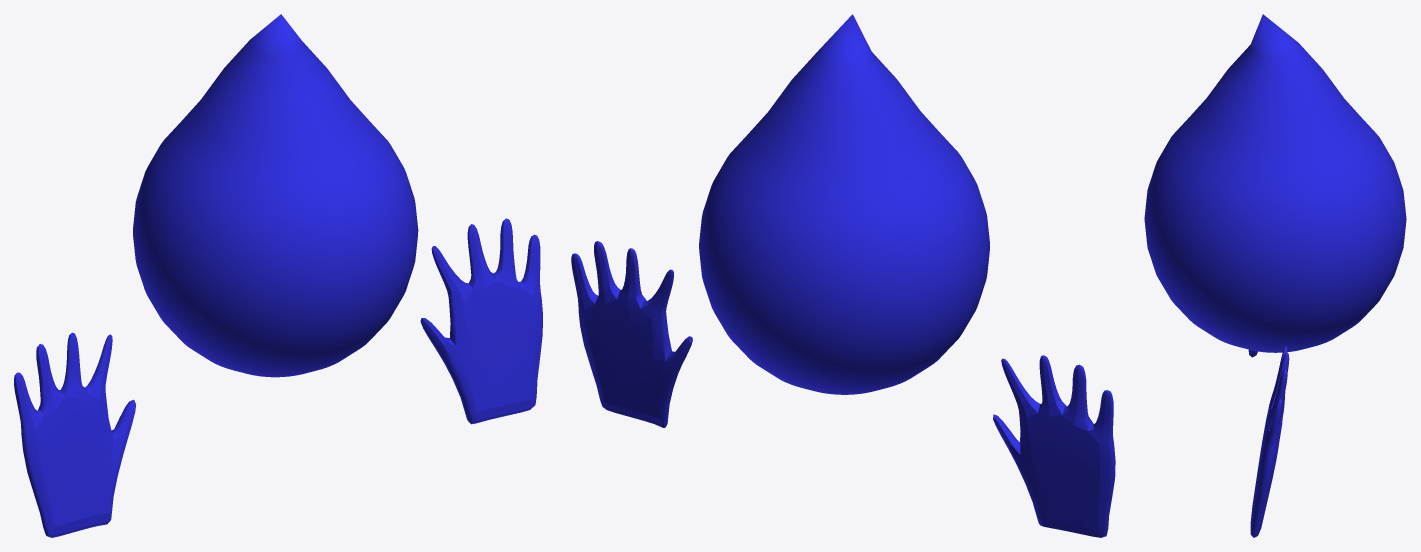
Rendered from WaterSpirit_Normal.glb.
3 renders of one model, left to right at view 1: azimuth 30°, elevation 25°; view 2: azimuth 150°, elevation 25°; view 3: azimuth 270°, elevation 25°, orthographic. The views are drawn at different scales.
Parts seen in each view (by area): view 1: Sphere.001, Cube, Cube.001; view 2: Sphere.001, Cube.001, Cube; view 3: Sphere.001, Cube.
Boxes of the visible parts, x1,y1,x2,y2 form: Sphere.001: [133, 14, 418, 377]; Cube: [420, 218, 542, 424]; Cube.001: [14, 332, 135, 537]; Sphere.001: [699, 14, 989, 394]; Cube.001: [993, 355, 1115, 537]; Cube: [571, 241, 692, 427]; Sphere.001: [1144, 14, 1406, 352]; Cube: [1250, 346, 1289, 537].
Size of the model in its own units: 4.28 by 3.57 by 2.
